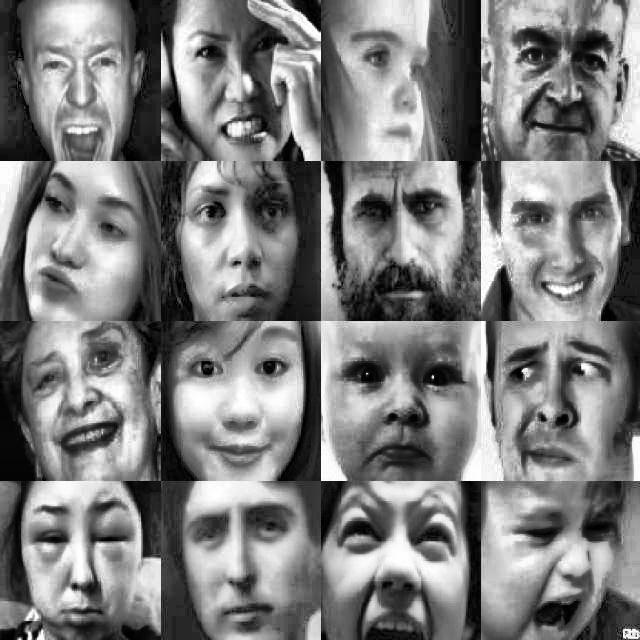angry: (339, 329, 473, 473), (502, 12, 613, 149), (183, 11, 292, 148), (27, 31, 136, 160)
fear: (332, 484, 456, 640)
happy: (177, 318, 301, 476), (22, 322, 133, 473), (502, 175, 620, 315)
neutral: (496, 324, 627, 475), (25, 162, 147, 316), (178, 495, 302, 633), (340, 16, 443, 152)
sad: (492, 496, 620, 639), (342, 169, 464, 317), (182, 173, 300, 313), (25, 491, 137, 634)
